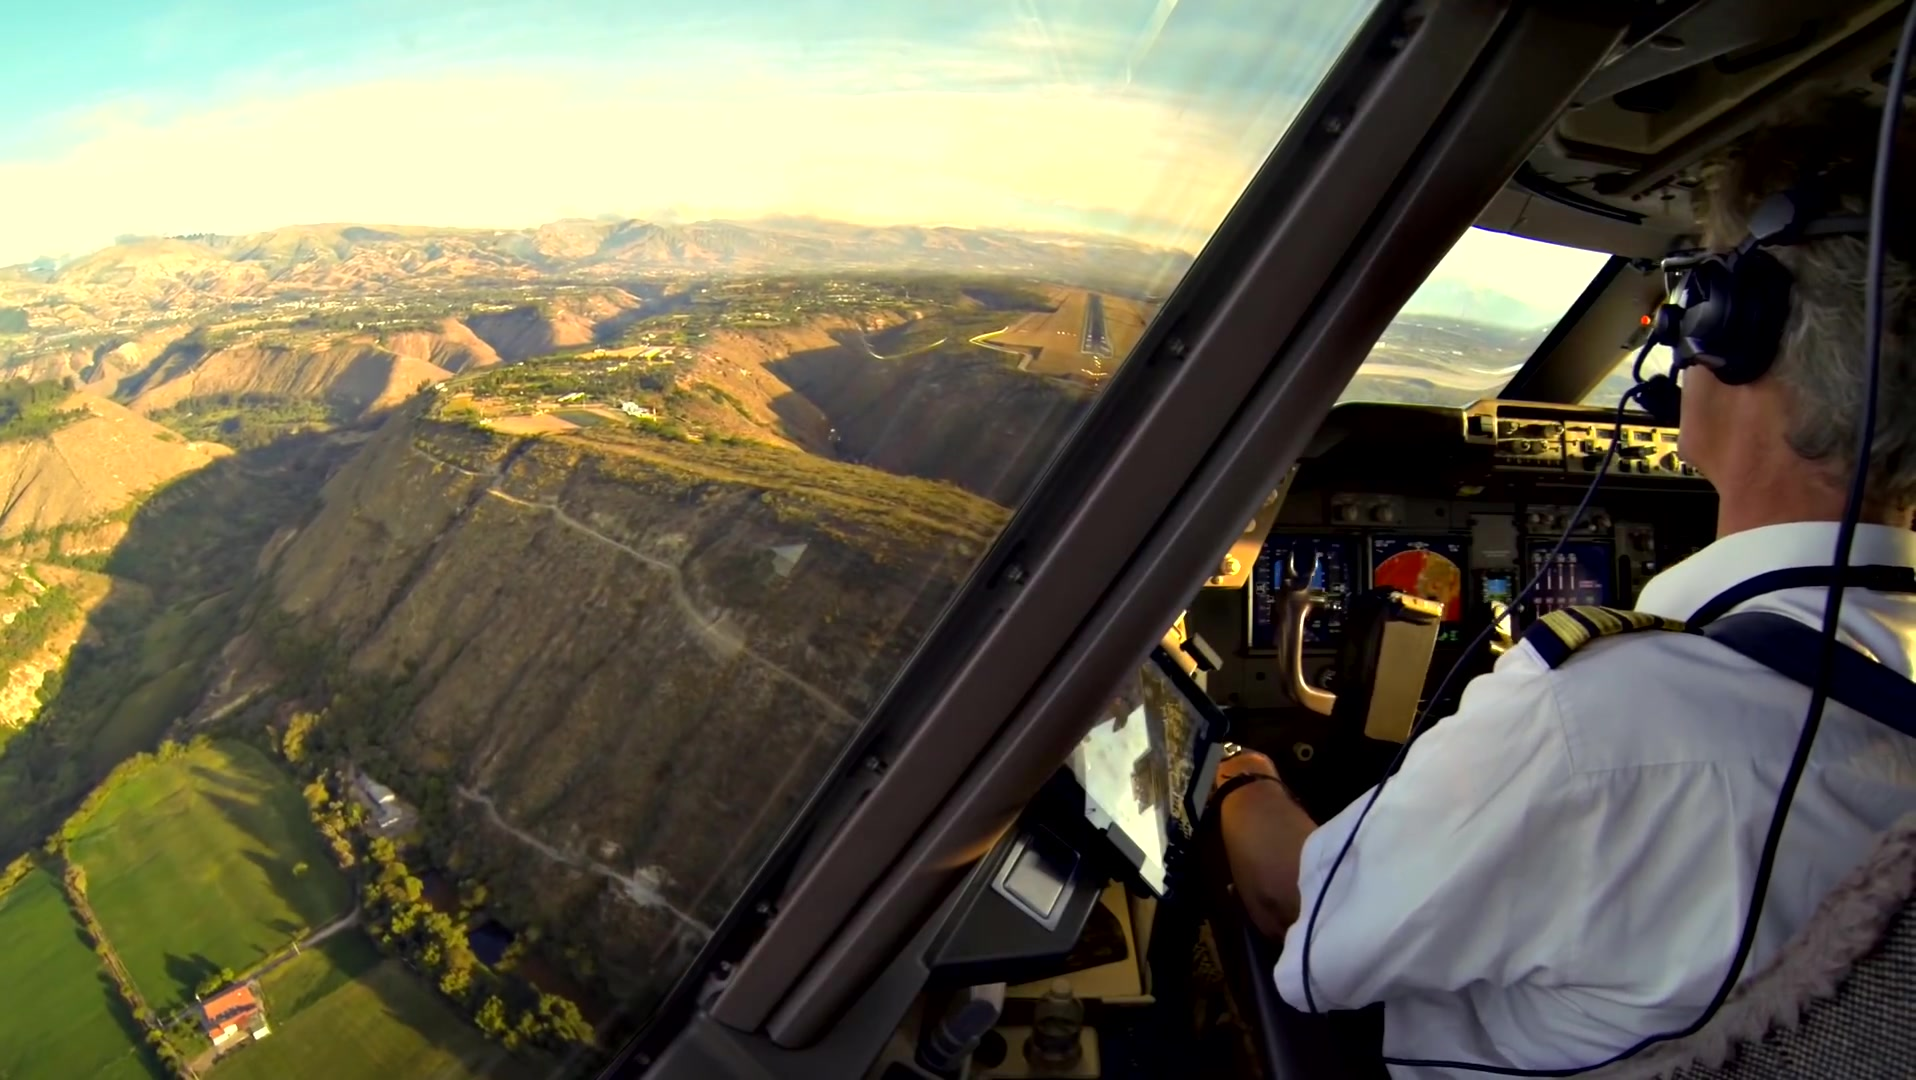runway: (1078, 287, 1115, 356)
